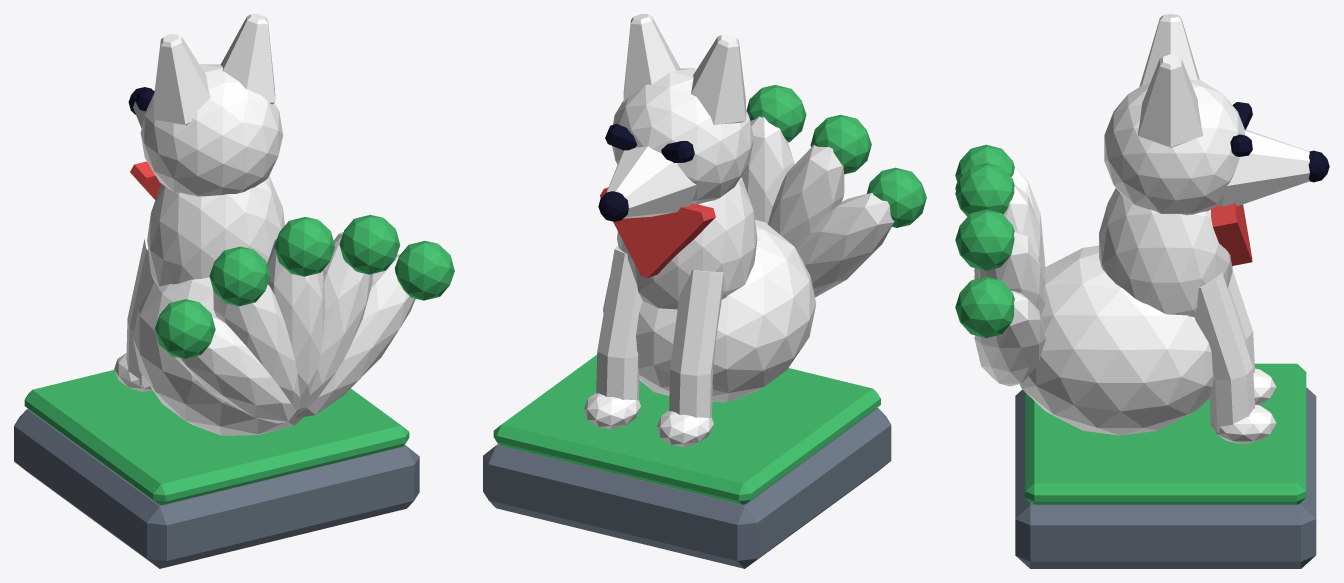
Rendered from Prop_ninja_village_FoxStatue.glb.
The picture shows the model from 3 angles, left to right: view 1: azimuth 30°, elevation 25°; view 2: azimuth 150°, elevation 25°; view 3: azimuth 270°, elevation 25°; orthographic projection.
Visible parts, largest first — view 1: White_FFFFFF, LeafGreen_3FBF6A, StoneDark_6B7686, Red_F04848; view 2: White_FFFFFF, LeafGreen_3FBF6A, StoneDark_6B7686, Red_F04848, Ink_0D0F2B; view 3: White_FFFFFF, LeafGreen_3FBF6A, StoneDark_6B7686, Red_F04848, Ink_0D0F2B.
Boxes of the visible parts, x1=… form: White_FFFFFF: x1=114, y1=14, x2=415, y2=435; LeafGreen_3FBF6A: x1=24, y1=215, x2=454, y2=504; StoneDark_6B7686: x1=14, y1=409, x2=419, y2=568; Red_F04848: x1=130, y1=161, x2=161, y2=199; White_FFFFFF: x1=583, y1=14, x2=894, y2=447; LeafGreen_3FBF6A: x1=493, y1=85, x2=926, y2=504; StoneDark_6B7686: x1=483, y1=408, x2=891, y2=568; Red_F04848: x1=600, y1=187, x2=715, y2=277; Ink_0D0F2B: x1=598, y1=123, x2=694, y2=221; White_FFFFFF: x1=974, y1=14, x2=1309, y2=444; LeafGreen_3FBF6A: x1=955, y1=144, x2=1306, y2=504; StoneDark_6B7686: x1=1015, y1=387, x2=1316, y2=568; Red_F04848: x1=1211, y1=203, x2=1252, y2=265; Ink_0D0F2B: x1=1230, y1=102, x2=1329, y2=182.
Size of the model in its own units: 6.85 by 10.37 by 7.47.
